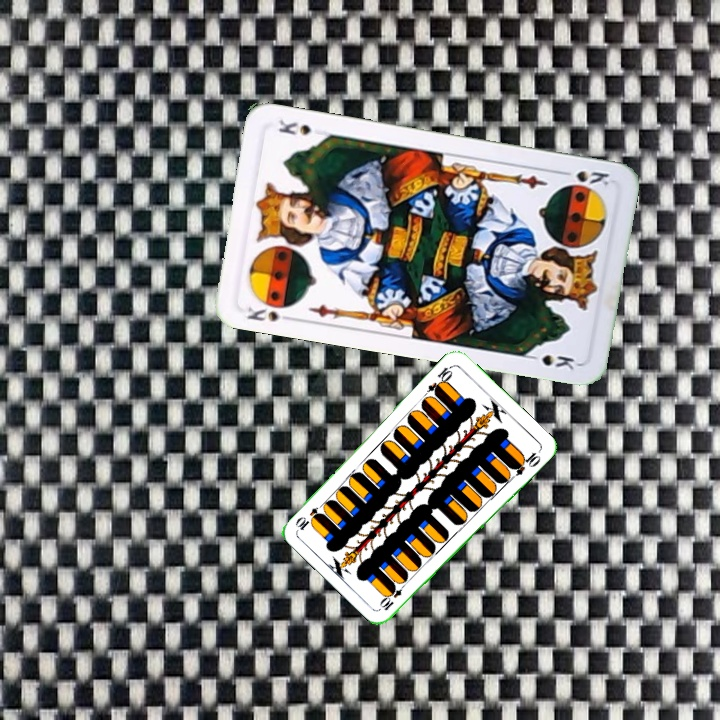E10: (376, 578, 410, 613), (424, 361, 455, 397)
SK: (555, 166, 612, 190), (243, 302, 297, 325)
